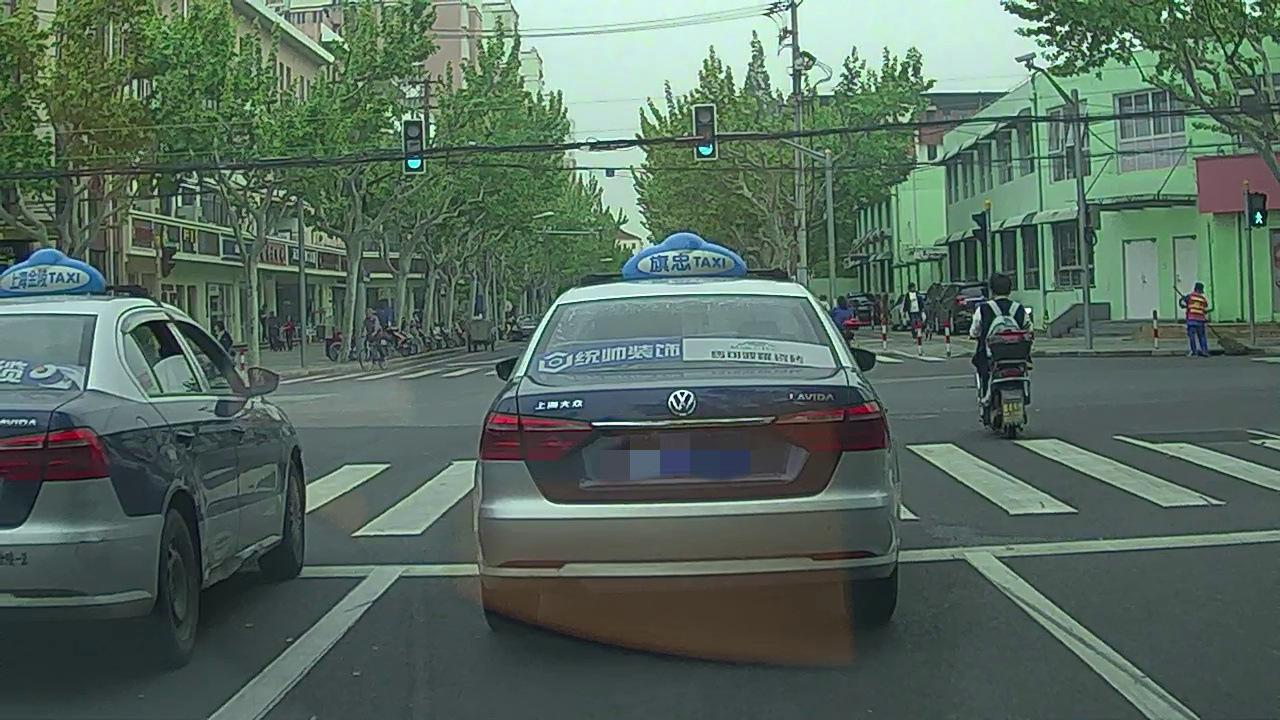traffic_light: (693, 107, 716, 159), (404, 122, 424, 173)
